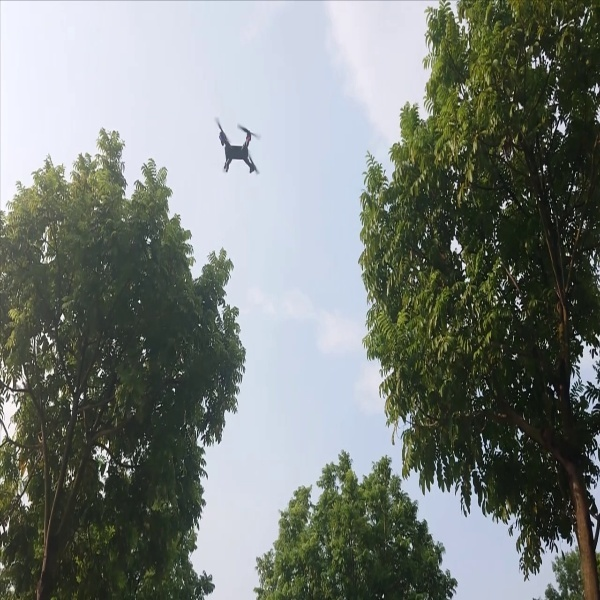drone: (204, 113, 266, 180)
